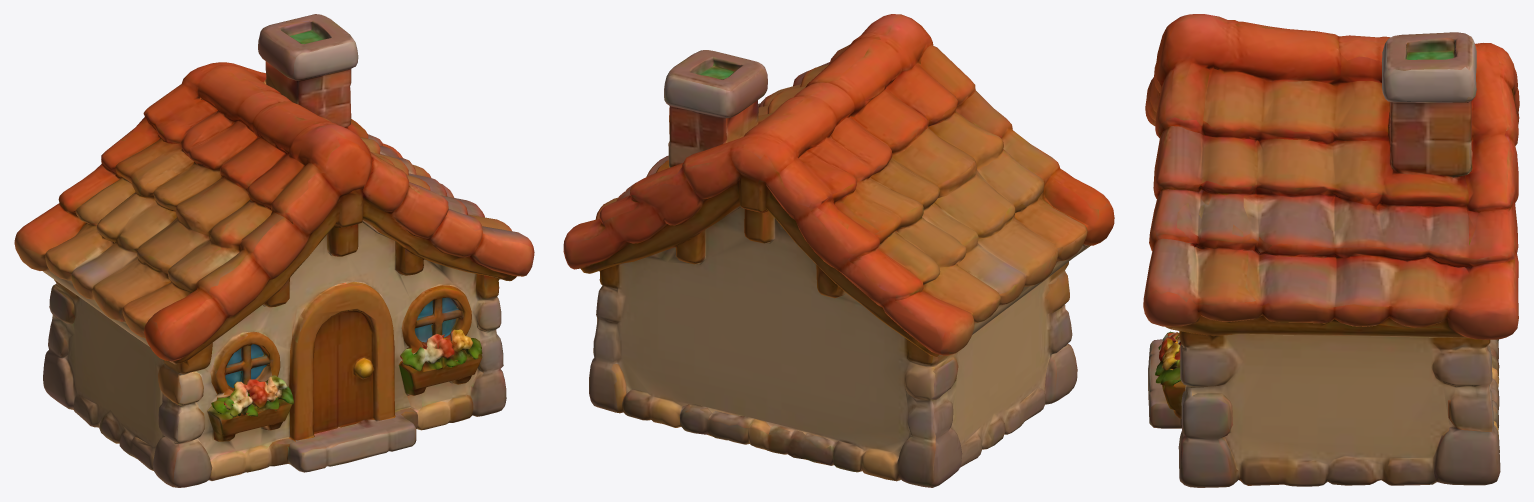
The model's file is house.glb.
The picture shows the model from 3 angles, left to right: view 1: azimuth 30°, elevation 25°; view 2: azimuth 150°, elevation 25°; view 3: azimuth 270°, elevation 25°; orthographic projection. The views are drawn at different scales.
Visible parts, largest first — view 1: textured_mesh.obj; view 2: textured_mesh.obj; view 3: textured_mesh.obj.
Boxes of the visible parts, left/top/right/bottom form: textured_mesh.obj: left=14, top=14, right=534, bottom=487; textured_mesh.obj: left=563, top=14, right=1114, bottom=487; textured_mesh.obj: left=1143, top=14, right=1519, bottom=487.
Size of what is drawn, in the model's own units: 5.1 by 4.2 by 3.69.
Materials: 1 (1 with a texture image).
